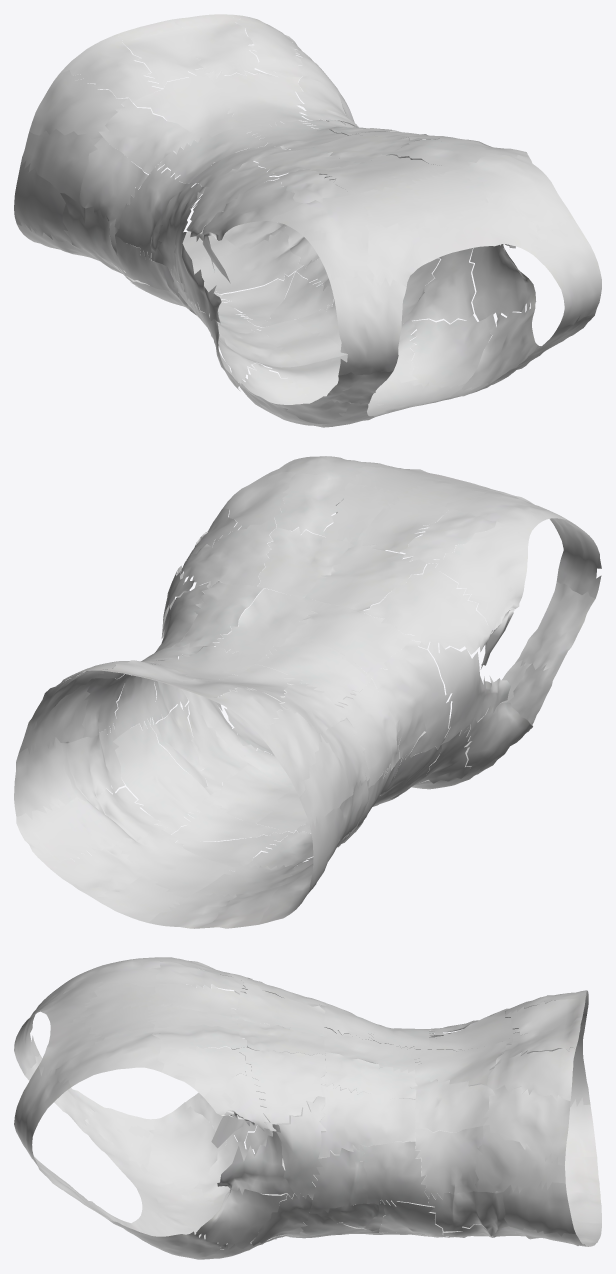
Rendered from adult-base-01.mobile.glb.
3 renders of one model, top to bottom at view 1: azimuth 30°, elevation 25°; view 2: azimuth 150°, elevation 25°; view 3: azimuth 270°, elevation 25°, orthographic. The views are drawn at different scales.
Parts seen in each view (by area): view 1: geometry_0; view 2: geometry_0; view 3: geometry_0.
Boxes of the visible parts, x1,y1,x2,y2 form: geometry_0: (14,14,601,427); geometry_0: (14,456,601,928); geometry_0: (14,957,601,1259).
Bounding box in the file's own units: 0.0039 × 0.00296 × 0.007.
Materials: 1 (1 with a texture image).
